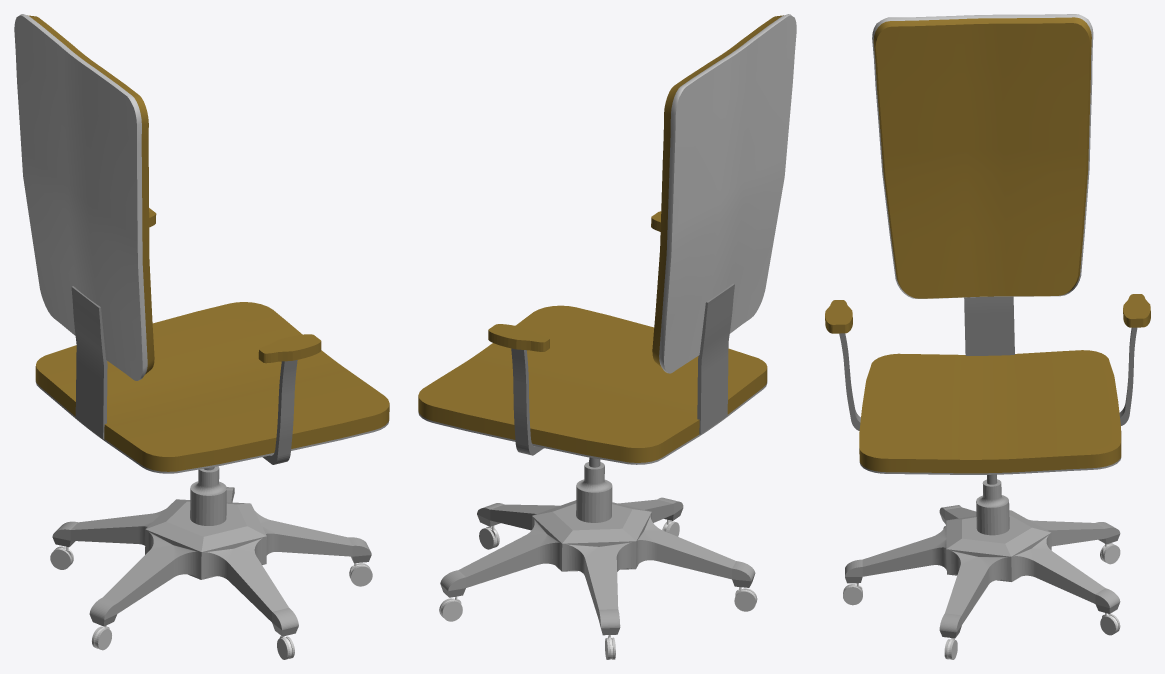
File: low_poly_Office_Chair.glb
3 renders of one model, left to right at view 1: azimuth 30°, elevation 25°; view 2: azimuth 150°, elevation 25°; view 3: azimuth 270°, elevation 25°, orthographic. The views are drawn at different scales.
Visible parts, largest first — view 1: unnamed (×9); view 2: unnamed (×9); view 3: unnamed (×11).
Boxes of the visible parts, left/top/right/bottom form: unnamed (×9): left=14, top=14, right=389, bottom=659; unnamed (×9): left=418, top=14, right=796, bottom=659; unnamed (×11): left=825, top=14, right=1150, bottom=659.
Size of the model in its own units: 2.36 by 4.7 by 2.63.
